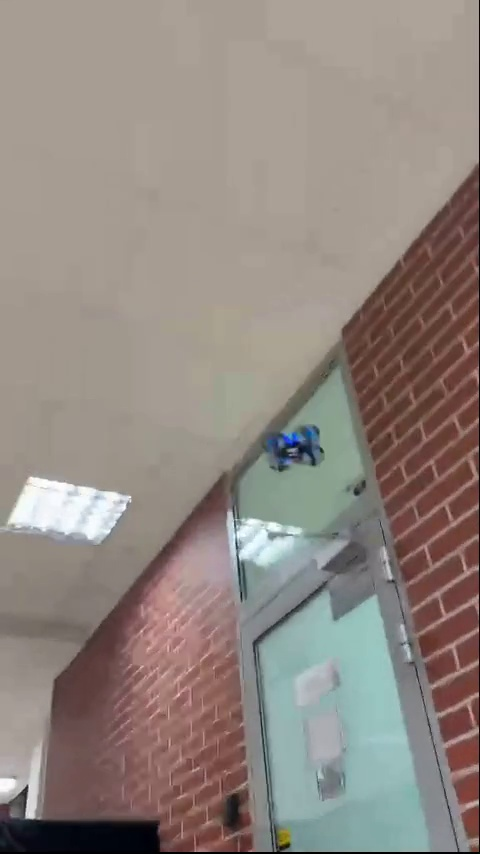drone: (261, 424, 319, 473)
